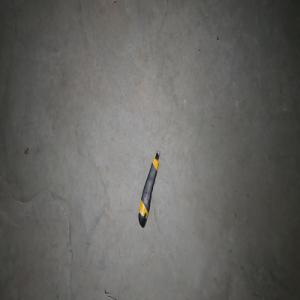Cutter: (137, 150, 160, 228)
